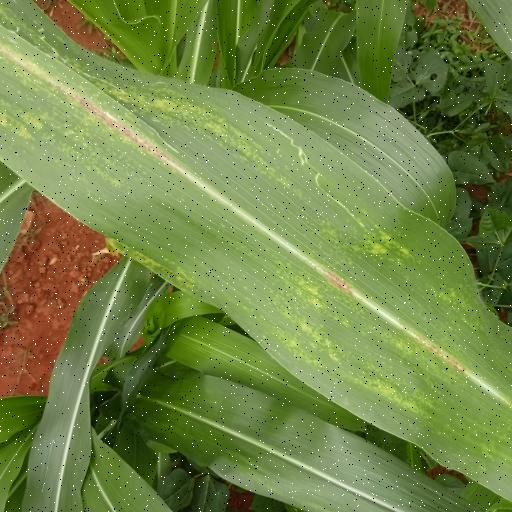Corn_Brown_Spots: (0, 0, 512, 469)
